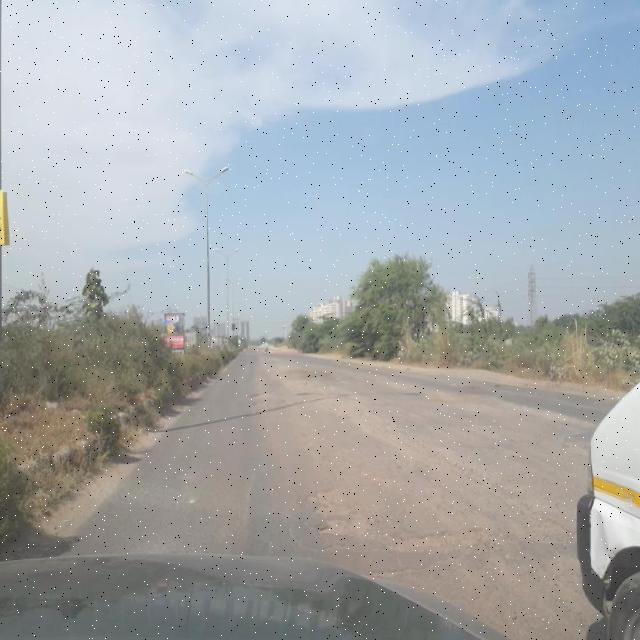D40: (302, 472, 582, 560), (295, 367, 475, 470), (239, 385, 284, 403)
